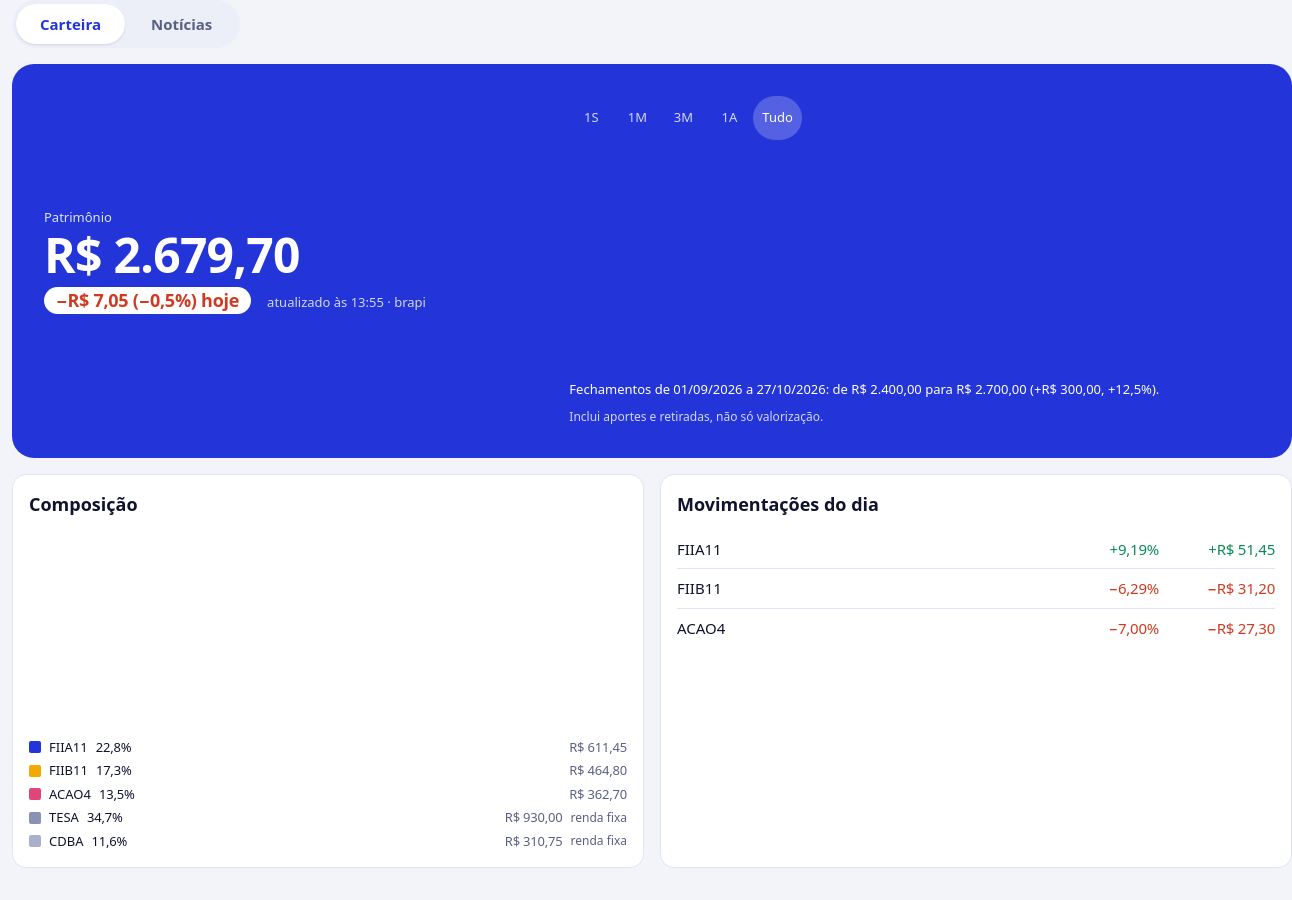
Test case: Início: abas › Notícias troca o painel e desmonta os gráficos
This screenshot has width=1292, height=900.
Click the tab "Notícias" at (182, 24), box [127,4,236,44]
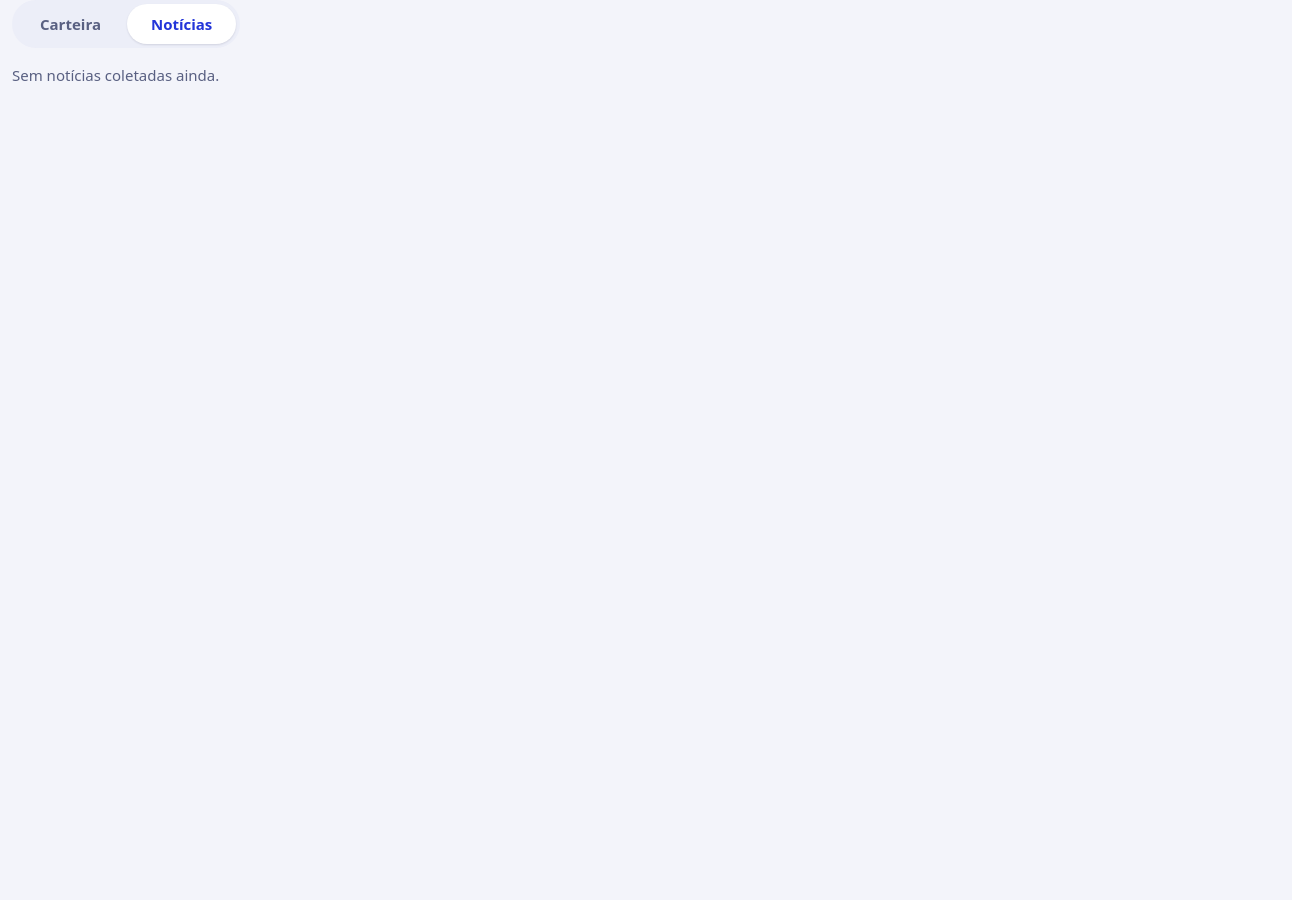
Check: the text "Patrimônio" is gone
